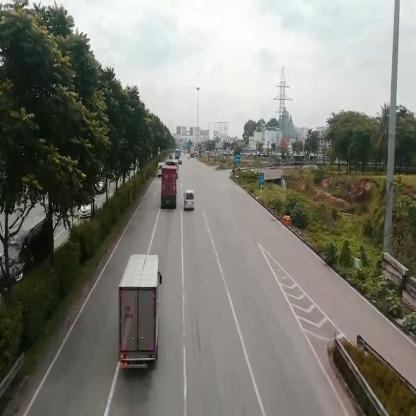car: (10, 218, 50, 283), (185, 191, 195, 212)
truck: (120, 255, 159, 372), (162, 167, 178, 211)
